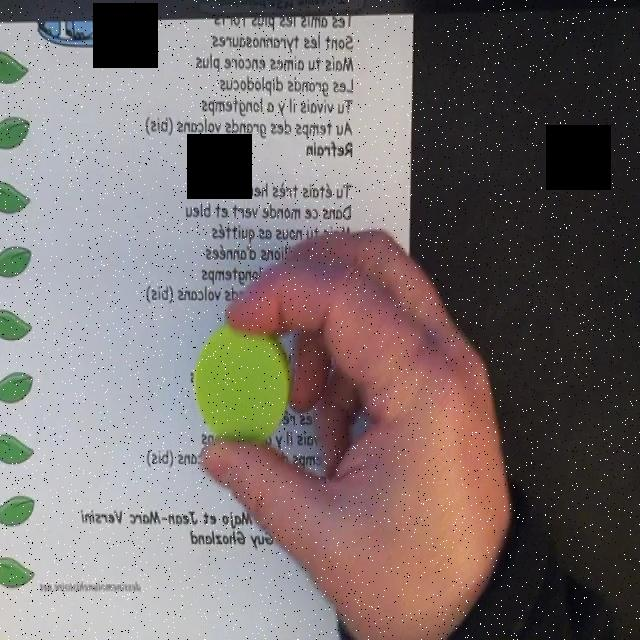round: (194, 322, 292, 448)
